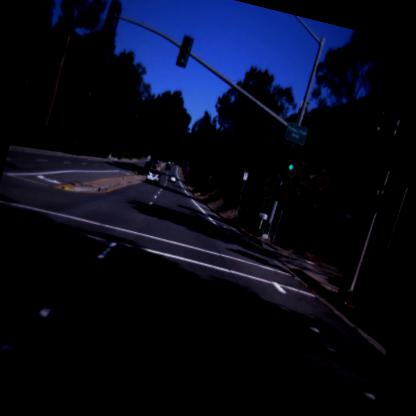trafficlight: (389, 106, 415, 172), (103, 0, 122, 35), (282, 144, 301, 178), (177, 35, 195, 67)
